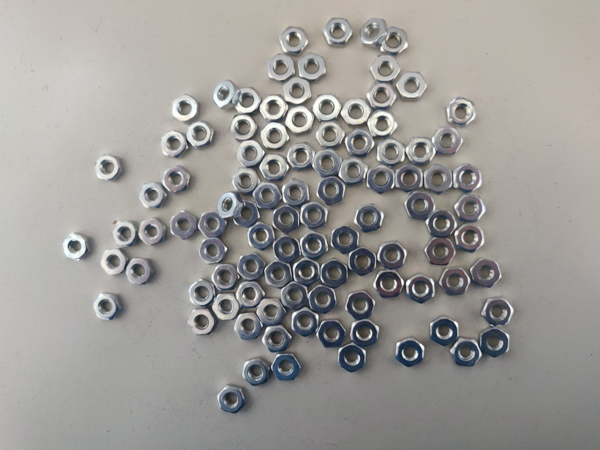nut: (446, 97, 478, 127), (406, 190, 438, 220), (338, 343, 369, 373), (242, 357, 273, 387), (470, 259, 502, 288), (482, 297, 514, 326), (479, 329, 511, 358), (429, 317, 461, 346), (395, 338, 427, 367), (454, 192, 486, 221), (454, 224, 486, 253), (231, 199, 261, 229), (451, 337, 482, 366), (271, 353, 302, 382), (440, 267, 471, 296), (279, 25, 310, 54), (366, 81, 397, 110), (282, 75, 313, 104), (353, 203, 384, 232), (432, 127, 463, 156), (260, 121, 291, 150), (406, 274, 437, 303), (262, 325, 293, 354), (312, 93, 342, 122), (367, 109, 397, 138), (323, 18, 353, 47), (406, 137, 436, 166), (63, 232, 92, 262), (427, 209, 456, 239), (316, 320, 346, 349), (341, 98, 372, 126), (370, 54, 401, 82), (312, 148, 343, 176), (315, 176, 346, 204), (377, 242, 408, 270), (345, 292, 376, 320), (348, 318, 379, 346), (307, 284, 338, 312), (425, 164, 453, 195), (344, 130, 375, 158), (397, 72, 427, 100), (366, 165, 396, 193), (454, 165, 484, 193), (375, 270, 405, 298), (199, 236, 229, 264), (212, 81, 240, 111), (217, 386, 248, 413), (272, 205, 301, 233), (229, 114, 258, 142), (171, 210, 199, 239), (236, 140, 265, 168), (308, 285, 336, 314), (287, 143, 316, 171), (330, 225, 360, 252), (237, 253, 267, 280), (247, 223, 277, 250), (256, 298, 286, 325), (299, 232, 329, 259), (299, 202, 329, 229), (260, 154, 290, 181), (425, 239, 455, 266), (163, 165, 191, 193), (286, 106, 314, 134), (360, 18, 388, 46), (171, 94, 198, 123), (281, 178, 310, 205), (187, 120, 214, 149), (187, 308, 216, 335), (266, 54, 295, 81), (376, 138, 405, 165), (160, 131, 188, 158), (232, 167, 259, 195), (320, 260, 348, 287), (217, 193, 244, 221), (266, 261, 292, 290), (292, 309, 318, 338), (339, 158, 368, 184), (126, 258, 153, 285), (235, 314, 262, 341), (293, 260, 320, 287), (233, 87, 261, 113), (95, 155, 123, 181), (139, 182, 167, 208), (93, 295, 121, 321), (381, 27, 409, 53), (281, 282, 307, 310), (139, 218, 165, 245), (212, 294, 238, 321), (317, 122, 344, 148), (299, 55, 327, 80), (189, 279, 214, 307), (236, 282, 264, 307), (350, 248, 375, 276), (253, 184, 281, 209), (259, 97, 287, 121), (112, 222, 137, 248), (273, 236, 299, 261), (398, 167, 423, 193), (200, 211, 224, 238), (102, 250, 126, 275), (213, 266, 237, 291)
